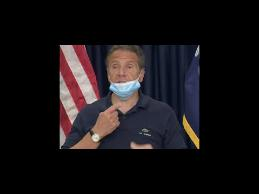mask_weared_incorrect: (110, 59, 140, 93)
